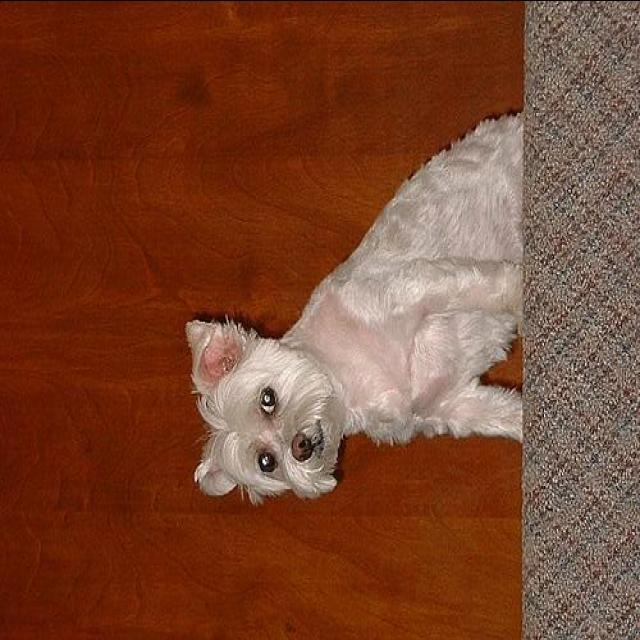maltese_dog: (182, 108, 520, 504)
